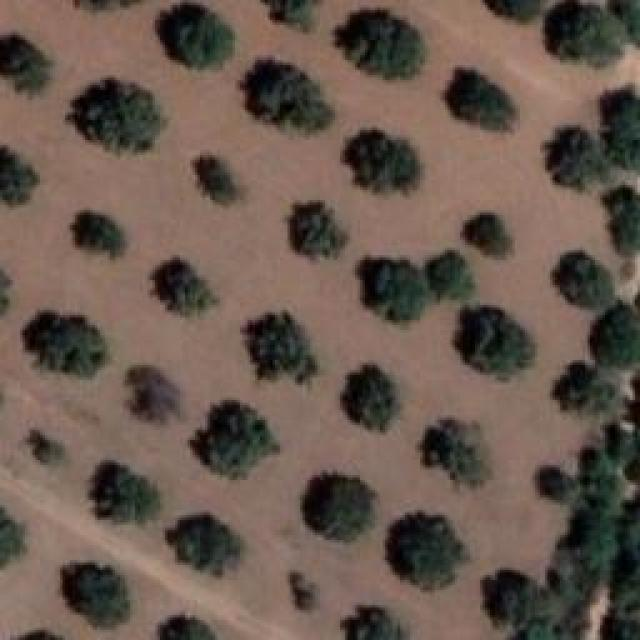Tree: (400, 513, 471, 589), (458, 307, 533, 378), (260, 68, 333, 137), (348, 13, 424, 79), (90, 90, 166, 151), (205, 408, 268, 481), (425, 420, 497, 482), (307, 475, 377, 538), (547, 0, 620, 58), (360, 133, 424, 195), (550, 245, 615, 306), (32, 315, 104, 370), (255, 315, 314, 381), (485, 570, 551, 629), (178, 517, 243, 575), (555, 360, 621, 416), (93, 468, 159, 523), (77, 565, 135, 627), (175, 15, 237, 71), (460, 75, 517, 134), (367, 262, 424, 321), (3, 38, 58, 99), (592, 298, 640, 367), (597, 92, 640, 159), (545, 128, 596, 183), (463, 208, 515, 261), (155, 263, 208, 312), (350, 370, 397, 425), (433, 253, 482, 305), (298, 210, 346, 259), (190, 158, 233, 207), (0, 150, 38, 204), (613, 188, 640, 263), (483, 0, 547, 27), (347, 607, 397, 640), (535, 465, 576, 500), (82, 215, 116, 253), (0, 509, 20, 568), (167, 617, 212, 640)
